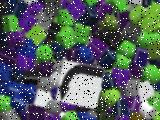Left: (55, 60, 105, 110)
